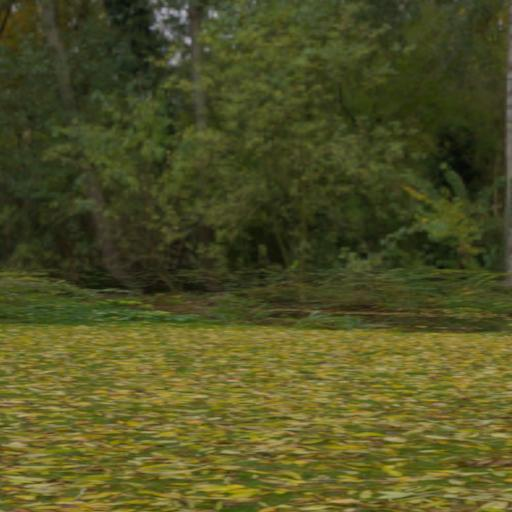nothing: (6, 4, 512, 512)
